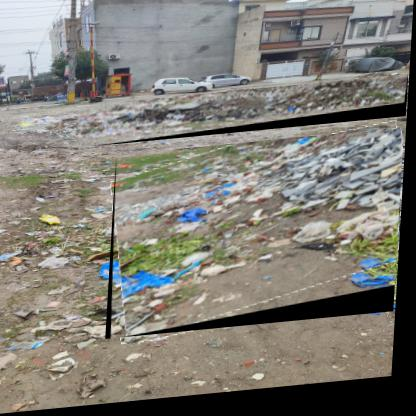Garbage: (111, 137, 408, 343), (78, 83, 412, 152)
